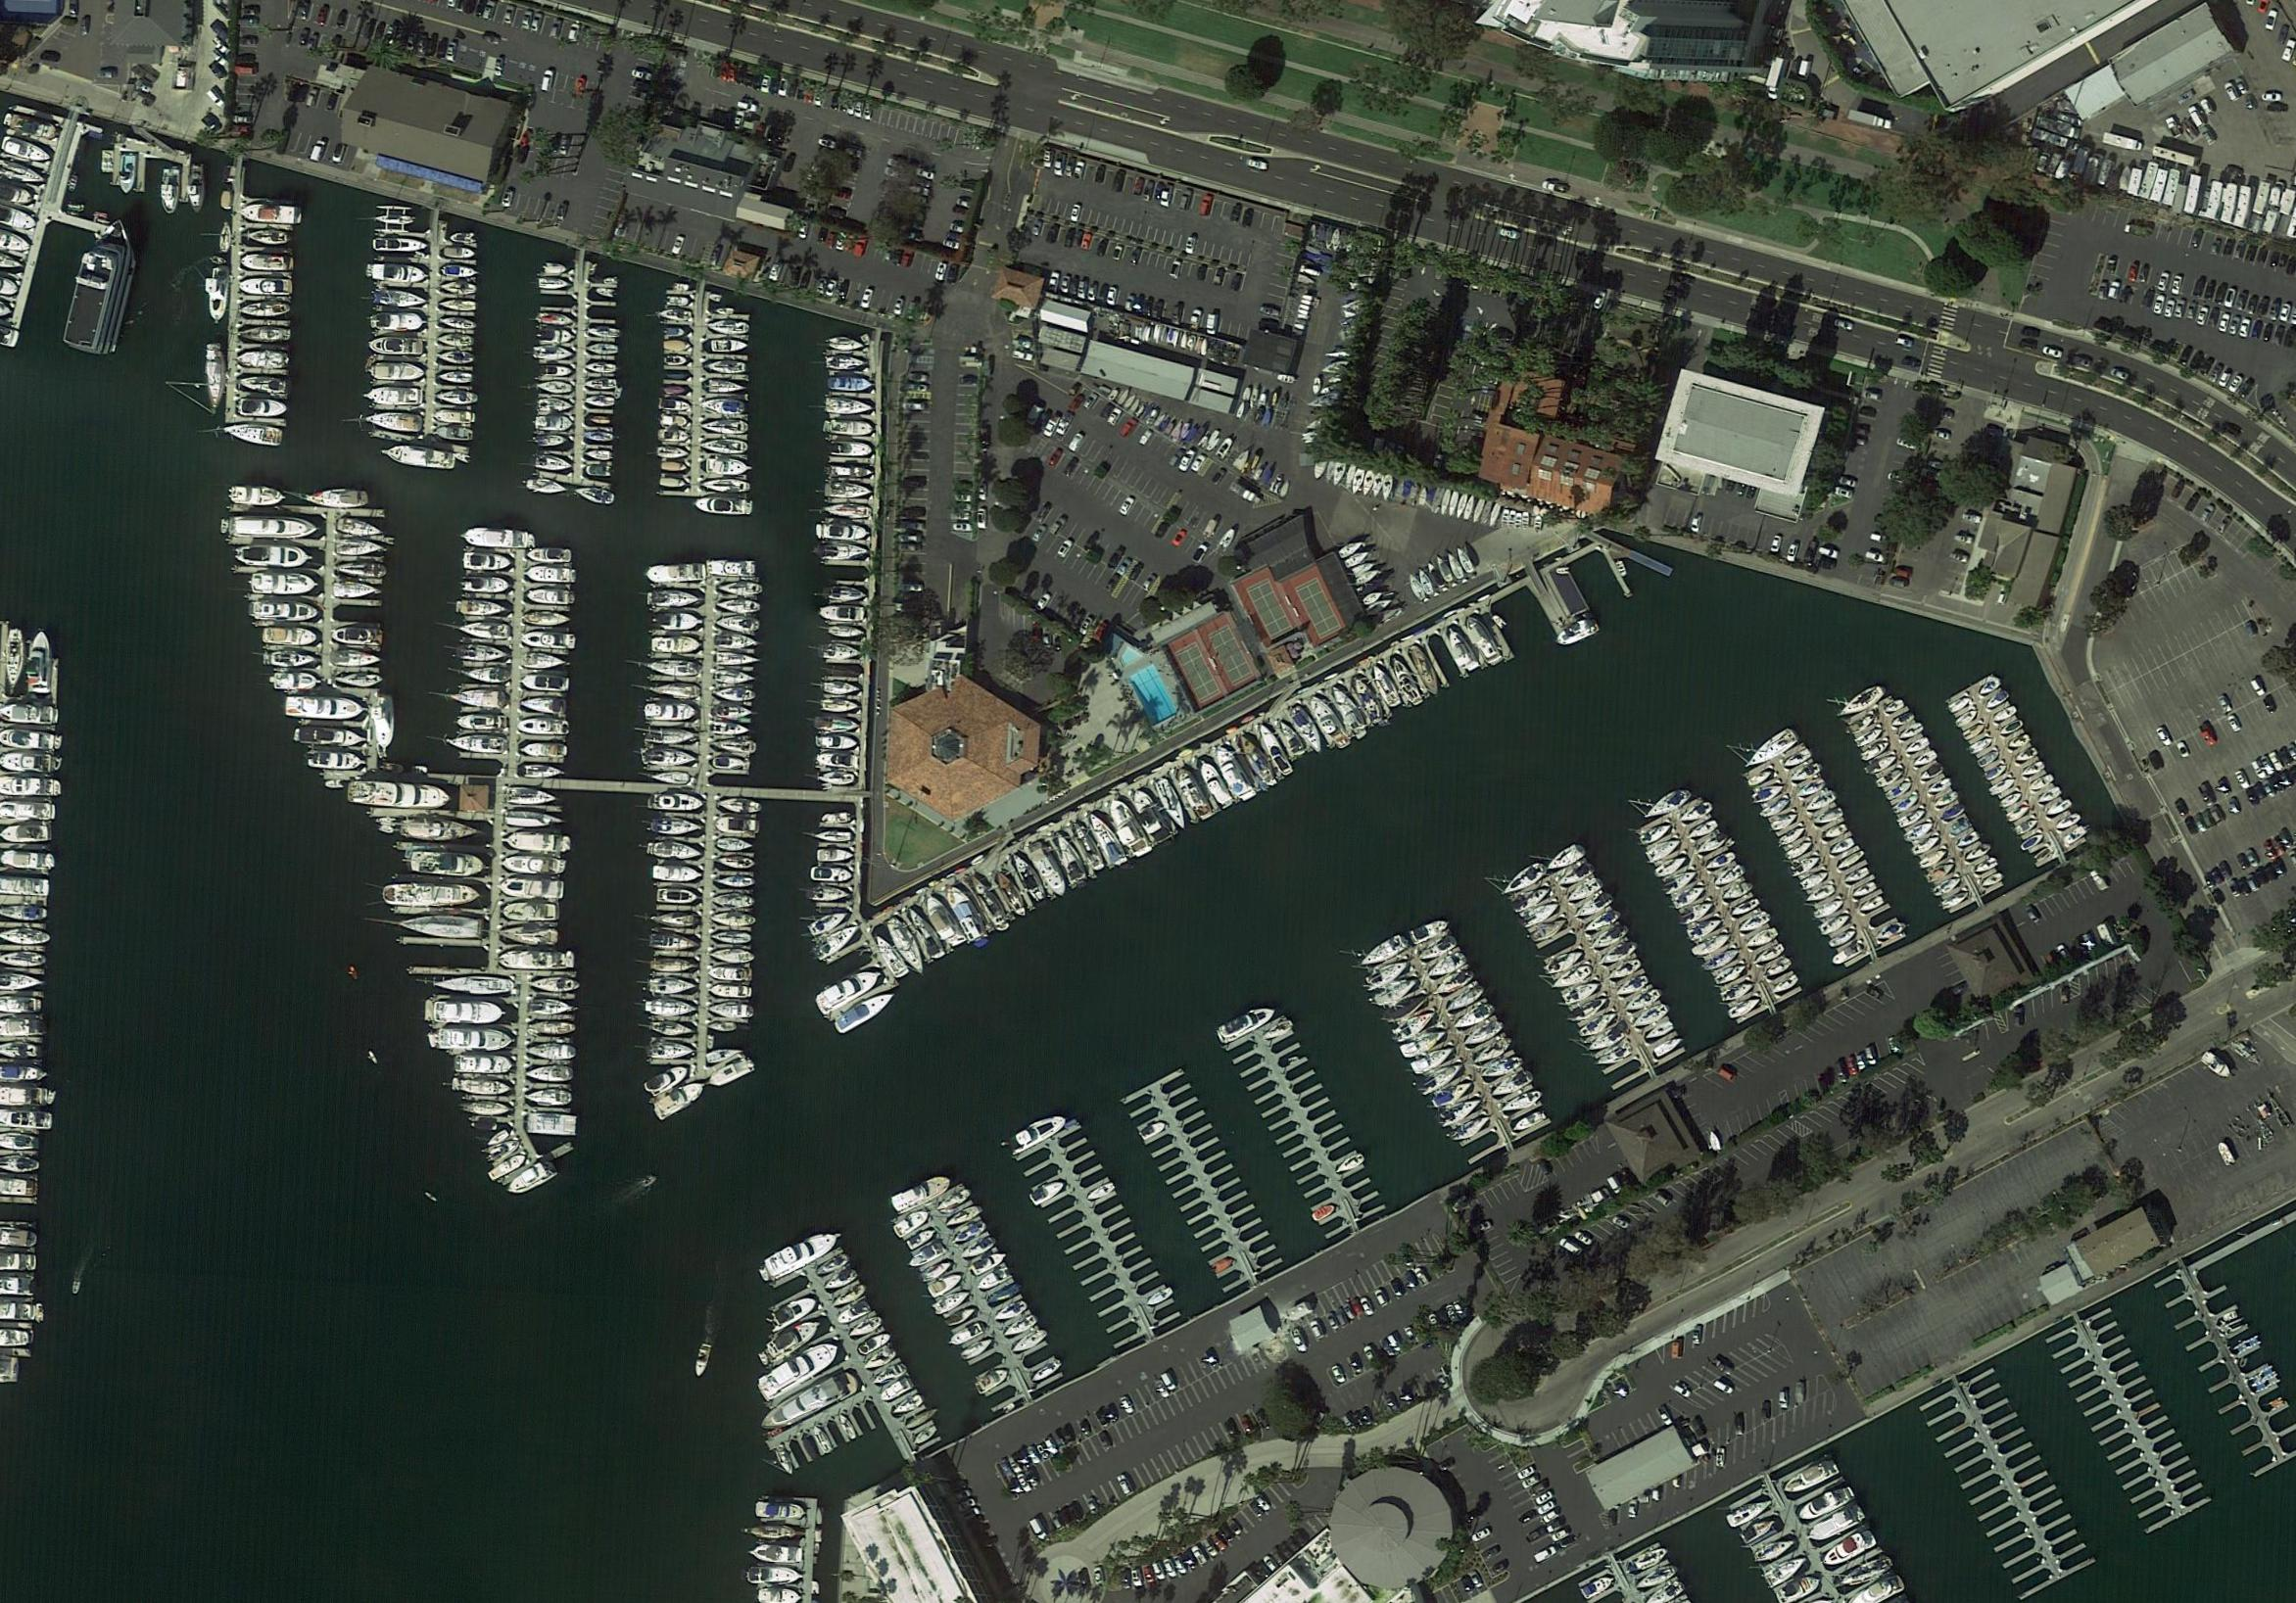harbor: (874, 578, 1557, 978), (698, 1244, 946, 1515), (290, 769, 572, 949), (1367, 928, 1556, 1172), (1508, 857, 1690, 1097), (230, 501, 387, 767), (892, 1182, 1067, 1420), (1013, 1120, 1187, 1357), (1637, 798, 1805, 1033), (1121, 1069, 1287, 1300), (1745, 743, 1909, 976), (1845, 689, 2008, 922), (1224, 1015, 1390, 1244), (646, 808, 758, 1118), (396, 965, 581, 1126), (1945, 675, 2088, 867), (456, 545, 576, 766), (639, 579, 760, 788), (371, 225, 476, 460), (656, 288, 749, 500), (222, 178, 296, 430), (536, 269, 618, 493), (785, 905, 900, 1024), (823, 348, 885, 568), (818, 581, 875, 791), (477, 1106, 576, 1191), (815, 792, 864, 908)
ship: (59, 213, 149, 363), (756, 1370, 862, 1438), (756, 1339, 843, 1403), (761, 1226, 843, 1283), (813, 964, 885, 1015), (832, 987, 899, 1038), (882, 914, 932, 982), (1105, 796, 1154, 863), (347, 780, 453, 811), (1815, 1525, 1881, 1573), (1005, 1109, 1070, 1157), (1829, 1550, 1897, 1595), (762, 1315, 825, 1364), (1739, 725, 1802, 773), (967, 872, 1014, 935), (889, 1170, 954, 1216), (1804, 1501, 1869, 1547), (1215, 1003, 1280, 1048), (943, 881, 989, 944), (1027, 839, 1072, 901), (921, 892, 968, 950), (1794, 1483, 1859, 1524), (903, 903, 947, 964), (1214, 744, 1257, 805), (652, 1076, 708, 1122), (1130, 786, 1173, 845), (381, 882, 480, 908), (1781, 1456, 1842, 1496), (1173, 763, 1216, 822), (1236, 731, 1278, 789), (382, 442, 458, 473), (1462, 611, 1505, 668), (1087, 810, 1128, 868), (1834, 682, 1889, 723), (400, 914, 486, 940), (1307, 692, 1349, 746), (400, 817, 484, 843), (505, 1157, 559, 1199), (1153, 777, 1192, 832), (228, 516, 317, 541), (1329, 682, 1369, 735), (1722, 1492, 1776, 1532), (1257, 722, 1294, 779), (284, 696, 365, 723), (1641, 784, 1696, 824), (410, 851, 486, 879), (811, 921, 864, 962), (1009, 850, 1048, 904), (766, 1295, 820, 1334), (1051, 830, 1089, 885), (1288, 705, 1328, 757), (1497, 860, 1550, 899), (1407, 644, 1445, 698), (1196, 758, 1234, 812), (236, 543, 313, 570), (1357, 932, 1409, 971), (1760, 1549, 1810, 1589), (3, 111, 63, 143), (436, 1027, 514, 1052), (1071, 821, 1107, 873), (0, 134, 56, 168), (1351, 675, 1388, 726), (1416, 1060, 1466, 1097), (434, 974, 516, 997), (1631, 1560, 1682, 1596), (1399, 1024, 1450, 1061), (645, 1061, 693, 1100), (993, 869, 1029, 919), (1624, 1541, 1674, 1578), (204, 342, 228, 415), (433, 1000, 506, 1024), (705, 1056, 756, 1091), (1390, 1008, 1438, 1045), (875, 931, 911, 980), (26, 631, 54, 694), (1380, 991, 1431, 1025), (1372, 974, 1420, 1010), (1554, 616, 1602, 650), (1436, 1094, 1485, 1128), (206, 263, 233, 324), (1363, 957, 1411, 991), (1391, 658, 1424, 707), (500, 875, 566, 900), (503, 830, 570, 855), (1748, 1532, 1797, 1565), (297, 726, 368, 748), (251, 572, 318, 595), (1410, 1043, 1456, 1077), (1447, 627, 1480, 674), (250, 600, 318, 623), (1443, 983, 1488, 1017), (1544, 840, 1588, 874), (1462, 1017, 1507, 1052), (1453, 999, 1497, 1033), (1432, 967, 1476, 1001), (1471, 1034, 1516, 1067), (2197, 1047, 2237, 1084), (1369, 664, 1402, 710), (1550, 962, 1596, 994), (1429, 1078, 1475, 1110), (1735, 1515, 1781, 1547), (525, 1110, 579, 1138), (1490, 1068, 1535, 1101), (1449, 1112, 1494, 1145), (240, 203, 302, 226), (1573, 889, 1616, 922), (502, 855, 568, 876), (463, 526, 530, 547), (1543, 946, 1587, 978), (5, 629, 26, 694), (307, 487, 369, 509), (1480, 1052, 1525, 1083), (499, 950, 567, 970), (223, 423, 283, 447), (1519, 898, 1563, 929), (1510, 883, 1555, 915), (806, 908, 850, 939), (307, 749, 367, 772), (1529, 914, 1571, 946), (374, 693, 398, 751), (504, 810, 567, 831), (447, 733, 509, 755), (1567, 994, 1610, 1025), (500, 924, 559, 947), (930, 1287, 974, 1317), (892, 1206, 933, 1239), (365, 410, 424, 433), (487, 1152, 529, 1183), (1584, 1025, 1626, 1057), (1426, 950, 1468, 981), (1416, 933, 1459, 965), (2, 703, 60, 726), (1501, 1087, 1545, 1116), (371, 205, 415, 234), (647, 563, 707, 585), (1699, 945, 1742, 975), (1691, 930, 1733, 961), (695, 495, 754, 517), (1583, 907, 1623, 938), (1408, 916, 1452, 944), (906, 1241, 947, 1271), (1561, 977, 1602, 1008), (1564, 875, 1605, 906), (1599, 938, 1640, 968), (1631, 1001, 1672, 1031), (1577, 1571, 1618, 1601), (370, 262, 428, 284), (262, 627, 319, 648), (521, 630, 577, 651), (1557, 861, 1597, 891), (1591, 922, 1630, 953), (647, 793, 705, 814), (502, 901, 560, 921), (231, 486, 286, 507), (704, 557, 759, 579), (1028, 1178, 1069, 1207), (454, 1055, 514, 1074), (451, 688, 507, 709), (1277, 720, 1308, 758), (904, 1402, 942, 1433), (1011, 1327, 1050, 1356), (1645, 835, 1684, 865), (1624, 986, 1663, 1015), (645, 997, 697, 1018), (238, 323, 291, 345), (365, 386, 423, 405), (974, 1366, 1012, 1395), (945, 1202, 984, 1231), (1578, 1011, 1617, 1039), (644, 727, 697, 747), (970, 1249, 1010, 1277), (642, 748, 697, 768), (1596, 1041, 1633, 1070), (455, 643, 508, 664), (927, 1271, 965, 1299), (653, 840, 703, 862), (746, 1566, 804, 1584), (1686, 915, 1725, 942), (646, 658, 701, 678), (237, 350, 289, 370), (647, 589, 699, 609), (506, 787, 558, 808), (1726, 994, 1763, 1022), (1607, 956, 1645, 984), (1679, 898, 1716, 926), (879, 1376, 916, 1404), (872, 1361, 909, 1390), (832, 1283, 869, 1311), (1259, 1017, 1296, 1046), (749, 1544, 803, 1564), (371, 362, 425, 382), (935, 1187, 974, 1214), (1671, 882, 1709, 910), (648, 931, 699, 952), (651, 817, 702, 837), (239, 398, 290, 418), (160, 166, 180, 217), (645, 703, 697, 723), (863, 1345, 899, 1374), (376, 288, 426, 308), (918, 1257, 955, 1285), (976, 1266, 1013, 1294), (960, 1236, 997, 1263), (1652, 854, 1690, 881), (372, 312, 424, 332), (529, 975, 581, 995), (649, 976, 698, 997), (525, 1088, 574, 1108), (526, 564, 575, 585), (1737, 909, 1772, 937), (848, 1313, 884, 1342), (1712, 962, 1748, 989), (986, 1281, 1023, 1308), (952, 1219, 988, 1247), (1663, 868, 1699, 895), (824, 1267, 860, 1295), (523, 608, 571, 629), (958, 1336, 995, 1362), (651, 865, 704, 883), (239, 277, 292, 296), (335, 560, 388, 579), (517, 717, 570, 735), (462, 666, 512, 685), (1803, 788, 1839, 816), (1712, 863, 1747, 890), (1750, 779, 1786, 807), (994, 1297, 1029, 1325), (1028, 1358, 1064, 1386), (575, 484, 616, 507), (369, 337, 424, 354), (837, 1299, 872, 1327), (242, 253, 294, 271), (239, 301, 291, 319), (651, 613, 703, 632), (825, 397, 874, 416), (462, 552, 511, 572), (1680, 799, 1716, 825), (1003, 1313, 1039, 1340), (948, 1321, 984, 1347), (815, 1252, 851, 1279), (458, 622, 512, 639), (526, 1042, 577, 1061), (332, 627, 383, 645), (649, 682, 700, 700), (245, 227, 291, 248), (521, 674, 569, 693), (1640, 821, 1675, 847), (1616, 973, 1651, 1000), (857, 1331, 892, 1357), (942, 1304, 979, 1330), (333, 581, 380, 600), (755, 1502, 807, 1520), (456, 714, 508, 731), (1903, 819, 1937, 846), (749, 1524, 798, 1542), (825, 502, 874, 521), (825, 482, 874, 500), (238, 375, 287, 394), (333, 649, 382, 668), (1818, 911, 1852, 937), (1830, 941, 1864, 967), (1790, 760, 1824, 786), (1745, 925, 1779, 952), (706, 457, 752, 477), (1874, 918, 1909, 943), (1789, 852, 1824, 877), (1510, 1108, 1546, 1134), (705, 1043, 743, 1066), (460, 1078, 511, 1096), (650, 636, 701, 654), (650, 957, 698, 975), (336, 518, 384, 537), (459, 599, 507, 618), (520, 695, 568, 714), (892, 1392, 925, 1420), (1697, 830, 1730, 857), (1753, 941, 1787, 967), (189, 165, 207, 214), (819, 603, 866, 622), (463, 576, 510, 594), (1721, 979, 1755, 1005), (1924, 860, 1958, 885), (488, 1137, 522, 1162), (460, 1101, 512, 1117), (1865, 752, 1900, 777), (818, 642, 862, 662), (522, 652, 566, 672), (2212, 1139, 2239, 1170), (824, 523, 870, 542), (270, 650, 316, 669), (814, 715, 860, 733), (1722, 879, 1755, 905), (1804, 882, 1838, 908), (533, 452, 574, 473), (526, 1065, 574, 1083), (336, 540, 384, 557), (527, 588, 575, 605), (650, 1041, 695, 1060), (716, 816, 761, 834), (652, 911, 699, 928), (823, 543, 870, 561), (827, 419, 874, 437), (274, 673, 321, 690), (529, 1019, 576, 1037), (711, 736, 758, 754), (372, 238, 428, 253), (532, 998, 576, 1016), (1759, 797, 1793, 822), (1916, 847, 1949, 872), (773, 1444, 797, 1478), (828, 376, 874, 394), (717, 796, 763, 814), (1145, 1285, 1175, 1311), (701, 418, 749, 435), (798, 1431, 824, 1462), (1813, 805, 1845, 829), (1705, 849, 1738, 873), (1730, 896, 1762, 920), (906, 1227, 938, 1251), (1844, 713, 1877, 737), (1860, 739, 1892, 764), (1334, 1152, 1366, 1176), (1812, 898, 1845, 921), (1938, 888, 1972, 912), (120, 153, 138, 197), (1795, 777, 1827, 801), (1770, 972, 1801, 997), (711, 911, 757, 927), (709, 1002, 755, 1018), (1777, 825, 1809, 848), (1896, 807, 1929, 830), (1653, 1034, 1686, 1058), (810, 867, 853, 884), (655, 888, 698, 906), (831, 441, 874, 458), (716, 616, 761, 633), (716, 652, 761, 669), (911, 1424, 940, 1449), (1689, 818, 1719, 842), (1828, 927, 1859, 951), (1784, 839, 1815, 863), (1932, 875, 1963, 899), (336, 672, 383, 687), (693, 1343, 713, 1378), (707, 966, 753, 981), (702, 439, 748, 454), (718, 582, 764, 597), (1645, 1019, 1674, 1044), (652, 1021, 695, 1038), (525, 478, 568, 495), (702, 398, 745, 414), (1783, 748, 1813, 772), (1763, 957, 1794, 980), (1800, 869, 1831, 892), (1875, 767, 1905, 790), (811, 1425, 835, 1455), (837, 1412, 860, 1442), (1854, 726, 1886, 748), (1910, 834, 1941, 857), (1406, 572, 1428, 603), (521, 743, 569, 758), (434, 408, 476, 425), (715, 634, 757, 650), (816, 734, 858, 751), (701, 479, 752, 493), (1364, 595, 1394, 619), (711, 948, 755, 964), (827, 464, 874, 479), (829, 586, 868, 603), (810, 886, 851, 903), (1770, 811, 1800, 833), (1987, 776, 2018, 798), (1086, 1181, 1117, 1203), (1885, 779, 1915, 802), (1433, 553, 1456, 584), (1837, 850, 1868, 872), (713, 893, 756, 909), (436, 390, 479, 405), (713, 703, 753, 720), (1337, 538, 1365, 561), (1892, 792, 1922, 815), (1964, 842, 1993, 865), (717, 598, 762, 613), (1445, 551, 1466, 582), (827, 354, 866, 371), (651, 771, 691, 787), (709, 984, 753, 999), (713, 687, 757, 702), (816, 753, 860, 768), (528, 548, 572, 563), (708, 320, 749, 336), (714, 670, 755, 685), (1139, 1119, 1168, 1142), (821, 698, 859, 715), (1842, 866, 1872, 887), (1425, 561, 1447, 590), (713, 929, 753, 945), (435, 425, 475, 441), (1415, 567, 1436, 597), (1456, 545, 1476, 576), (2063, 824, 2089, 847), (2036, 784, 2064, 807), (1991, 704, 2020, 726), (1898, 721, 1927, 742), (535, 415, 573, 431), (824, 681, 862, 696), (1830, 836, 1856, 859), (2028, 772, 2055, 793), (2019, 831, 2046, 853), (1746, 768, 1774, 789), (1968, 734, 1995, 756), (1911, 749, 1938, 771), (438, 350, 473, 366), (1343, 549, 1371, 570), (709, 380, 746, 396), (437, 333, 474, 349), (711, 721, 750, 735), (1985, 689, 2011, 711), (717, 837, 753, 853), (540, 328, 576, 344), (829, 336, 865, 352), (2046, 798, 2074, 819), (1934, 790, 1961, 811), (1927, 776, 1954, 796), (1310, 1202, 1337, 1223), (706, 360, 747, 374), (525, 766, 566, 779), (711, 339, 749, 354), (828, 625, 866, 639), (539, 346, 574, 361), (713, 756, 748, 772), (535, 312, 575, 326), (1978, 677, 2003, 698), (717, 875, 754, 890), (2056, 812, 2082, 832), (1851, 880, 1878, 901), (1859, 895, 1886, 916), (1918, 763, 1944, 783), (1904, 736, 1931, 757), (1349, 467, 1366, 497), (1354, 569, 1382, 588), (1954, 709, 1980, 730), (1940, 803, 1966, 824), (816, 849, 854, 863), (1231, 448, 1252, 474), (1975, 749, 2001, 769), (1961, 722, 1987, 741), (814, 829, 851, 843), (718, 856, 755, 870), (441, 281, 478, 295), (1311, 454, 1329, 482), (1956, 830, 1981, 851), (1329, 460, 1347, 489), (2020, 760, 2045, 779), (1999, 718, 2025, 737), (1998, 790, 2024, 810), (1948, 695, 1974, 715), (1974, 857, 1999, 876), (1890, 710, 1916, 730), (1211, 1255, 1236, 1275), (1352, 559, 1377, 579), (442, 265, 481, 278), (485, 1129, 510, 1149), (538, 399, 574, 412), (586, 325, 622, 339), (819, 772, 855, 785), (1983, 763, 2009, 781), (2013, 818, 2039, 836), (2005, 804, 2032, 823), (439, 317, 477, 330), (658, 446, 691, 460), (1980, 871, 2005, 889), (439, 371, 473, 385), (1215, 437, 1235, 459), (1380, 473, 1396, 502), (658, 429, 690, 444), (439, 300, 478, 311), (218, 221, 233, 253), (587, 343, 620, 356), (443, 247, 476, 260), (1825, 823, 1849, 841), (2007, 733, 2032, 752), (1487, 502, 1505, 528), (658, 308, 694, 321), (1370, 471, 1386, 499), (1361, 469, 1376, 497), (659, 399, 692, 412), (2015, 746, 2038, 765), (539, 381, 573, 394), (584, 378, 618, 391), (539, 278, 573, 291), (1342, 463, 1358, 491), (1362, 589, 1384, 607), (1220, 528, 1238, 550), (1258, 465, 1276, 488), (1479, 499, 1494, 527), (1471, 497, 1486, 525), (1462, 495, 1477, 522), (1447, 490, 1460, 519), (1439, 488, 1453, 517), (584, 430, 615, 443), (586, 395, 617, 407), (1706, 1130, 1724, 1153), (1456, 492, 1469, 520), (535, 435, 567, 447), (541, 365, 573, 377), (587, 361, 618, 373), (822, 812, 850, 825), (1416, 485, 1431, 509), (1884, 698, 1905, 715), (660, 415, 688, 428), (708, 1020, 738, 1032), (2220, 1308, 2240, 1325), (663, 341, 692, 353), (1115, 387, 1131, 406), (1248, 386, 1261, 411), (586, 464, 610, 477), (585, 449, 611, 461), (1122, 393, 1138, 411), (1151, 411, 1167, 431), (659, 478, 688, 489), (66, 173, 80, 194), (664, 297, 690, 308), (661, 461, 689, 472), (1276, 372, 1297, 386), (596, 285, 616, 299), (1162, 420, 1178, 437), (664, 355, 688, 367), (661, 384, 687, 395), (1169, 423, 1183, 442), (1278, 480, 1292, 499), (1159, 415, 1172, 435), (450, 233, 476, 243), (1614, 561, 1629, 579), (545, 263, 568, 274), (1492, 614, 1507, 630), (1205, 438, 1221, 452), (757, 1350, 771, 1368), (1127, 398, 1141, 415), (1500, 509, 1511, 530), (1234, 401, 1247, 420), (715, 305, 735, 316), (641, 1174, 657, 1188), (1310, 378, 1322, 396), (1262, 408, 1272, 428), (1533, 514, 1544, 534), (324, 779, 344, 789), (71, 1280, 81, 1297), (591, 415, 610, 424), (410, 765, 428, 775), (1555, 566, 1573, 576), (1522, 512, 1531, 530), (379, 825, 395, 834), (1515, 512, 1524, 529), (1509, 509, 1517, 528)
